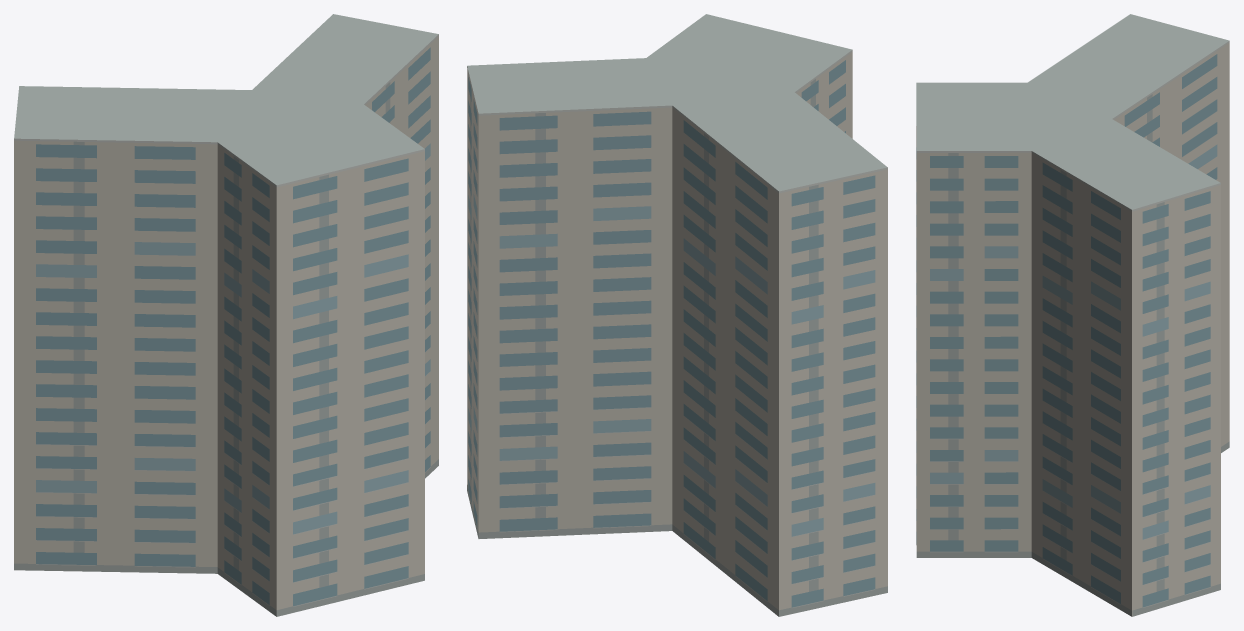
File: residential-4c70561f-d955-4959-8a7f-1ebd2d951074.glb
3 renders of one model, left to right at view 1: azimuth 30°, elevation 25°; view 2: azimuth 150°, elevation 25°; view 3: azimuth 270°, elevation 25°, orthographic. The views are drawn at different scales.
Visible parts, largest first — view 1: residential-4c70561f-d955-4959-8a7f-1ebd2d951074.tmp; view 2: residential-4c70561f-d955-4959-8a7f-1ebd2d951074.tmp; view 3: residential-4c70561f-d955-4959-8a7f-1ebd2d951074.tmp.
Part boxes in pixels (x1,y1,x2,y2): residential-4c70561f-d955-4959-8a7f-1ebd2d951074.tmp: [14, 14, 438, 616]; residential-4c70561f-d955-4959-8a7f-1ebd2d951074.tmp: [467, 14, 887, 616]; residential-4c70561f-d955-4959-8a7f-1ebd2d951074.tmp: [916, 14, 1229, 616].
Size of the model in its own units: 53.7 by 52 by 36.31.
